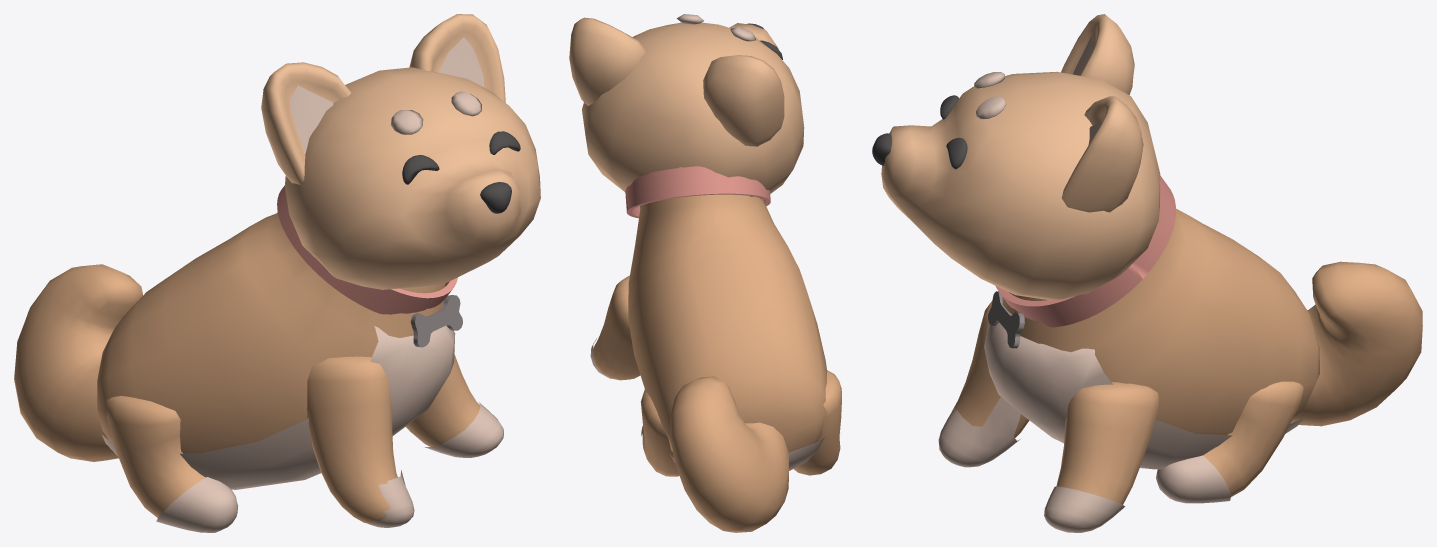
File: shiba-transformed.glb
3 views of the same model, side by side, from view 1: azimuth 30°, elevation 25°; view 2: azimuth 150°, elevation 25°; view 3: azimuth 270°, elevation 25° (orthographic). The views are drawn at different scales.
Visible parts, largest first — view 1: Cube.009, Cube 6.003, Merged Geometry.038, Cube 7.006, Subdiv 8, Subdiv 10, Cube 2.009, Cube 2.010, Cylinder 13.003, Cube 8.006, Subdiv.001, Shape 2.007 (+4 smaller); view 2: Cube 6.003, Cube.009, Cube 7.006, Cube 2.009, Cube 2.010, Cylinder 13.003, Cube 8.006, Subdiv 10, Subdiv 9, Merged Geometry.038; view 3: Cube.009, Cube 6.003, Merged Geometry.038, Cube 7.006, Cube 8.006, Cube 2.010, Subdiv 9, Cylinder 13.003, Cube 2.009, Subdiv 8, Shape 2.007.
Part boxes in pixels (x1=…): Cube.009: x1=285, y1=67, x2=540, y2=289; Cube 6.003: x1=97, y1=212, x2=445, y2=453; Merged Geometry.038: x1=101, y1=325, x2=503, y2=532; Cube 7.006: x1=14, y1=264, x2=142, y2=461; Subdiv 8: x1=307, y1=356, x2=397, y2=523; Subdiv 10: x1=106, y1=396, x2=205, y2=517; Cube 2.009: x1=261, y1=62, x2=351, y2=184; Cube 2.010: x1=409, y1=14, x2=505, y2=102; Cylinder 13.003: x1=277, y1=185, x2=457, y2=314; Cube 8.006: x1=405, y1=354, x2=480, y2=446; Subdiv.001: x1=289, y1=85, x2=333, y2=152; Shape 2.007: x1=410, y1=295, x2=462, y2=347; Cube 6.003: x1=628, y1=167, x2=827, y2=452; Cube.009: x1=582, y1=22, x2=804, y2=199; Cube 7.006: x1=670, y1=376, x2=788, y2=532; Cube 2.009: x1=703, y1=55, x2=784, y2=146; Cube 2.010: x1=569, y1=17, x2=646, y2=106; Cylinder 13.003: x1=625, y1=166, x2=770, y2=218; Cube 8.006: x1=592, y1=275, x2=640, y2=380; Subdiv 10: x1=793, y1=370, x2=841, y2=475; Subdiv 9: x1=640, y1=389, x2=679, y2=476; Merged Geometry.038: x1=590, y1=338, x2=824, y2=470; Cube.009: x1=881, y1=71, x2=1160, y2=300; Cube 6.003: x1=1002, y1=208, x2=1319, y2=434; Merged Geometry.038: x1=938, y1=322, x2=1307, y2=532; Cube 7.006: x1=1290, y1=261, x2=1422, y2=426; Cube 8.006: x1=1056, y1=382, x2=1158, y2=504; Cube 2.010: x1=1061, y1=96, x2=1143, y2=212; Subdiv 9: x1=1203, y1=381, x2=1303, y2=496; Cylinder 13.003: x1=995, y1=176, x2=1175, y2=327; Cube 2.009: x1=1061, y1=14, x2=1134, y2=94; Subdiv 8: x1=952, y1=300, x2=1029, y2=437; Shape 2.007: x1=988, y1=291, x2=1024, y2=348.
Size of the model in its own units: 0.7408 by 0.9261 by 0.9889.
